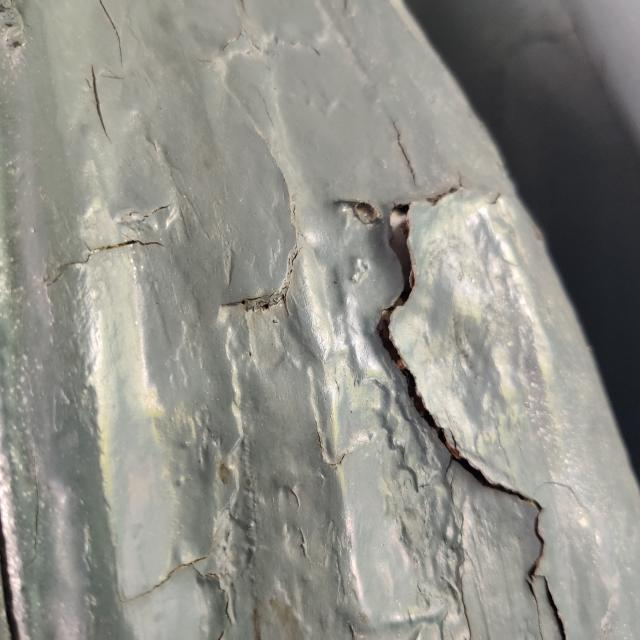crack: (296, 166, 591, 640)
